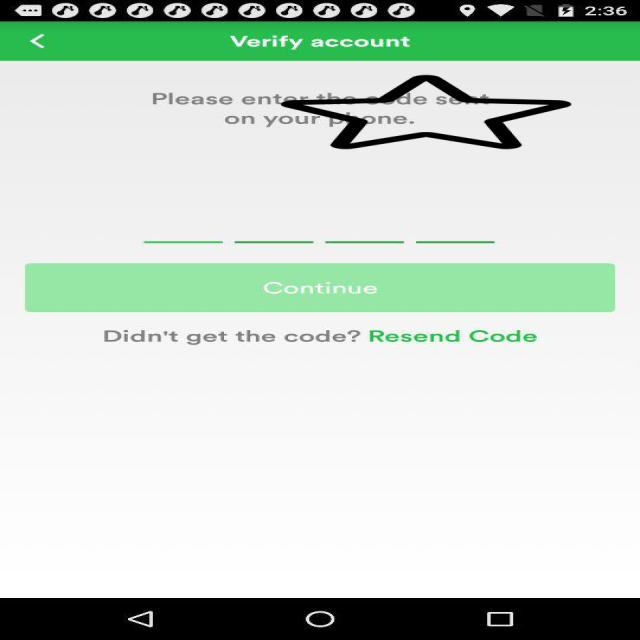forced continuity: (281, 73, 571, 151)
